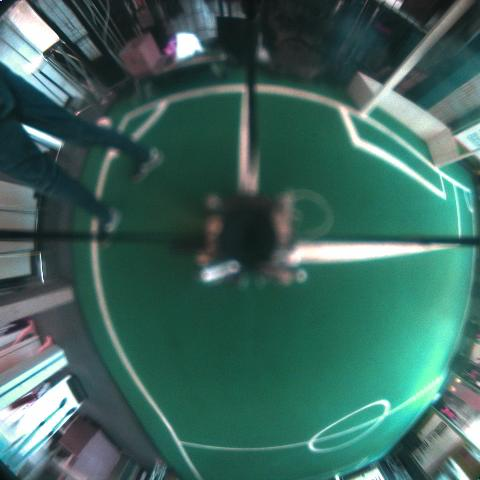ball: (97, 117, 113, 133), (447, 385, 455, 392), (452, 379, 460, 383)
goal: (358, 0, 475, 121), (430, 149, 479, 169)
person: (0, 62, 165, 249)
robot: (450, 354, 479, 389), (433, 396, 457, 420), (464, 320, 479, 338)
